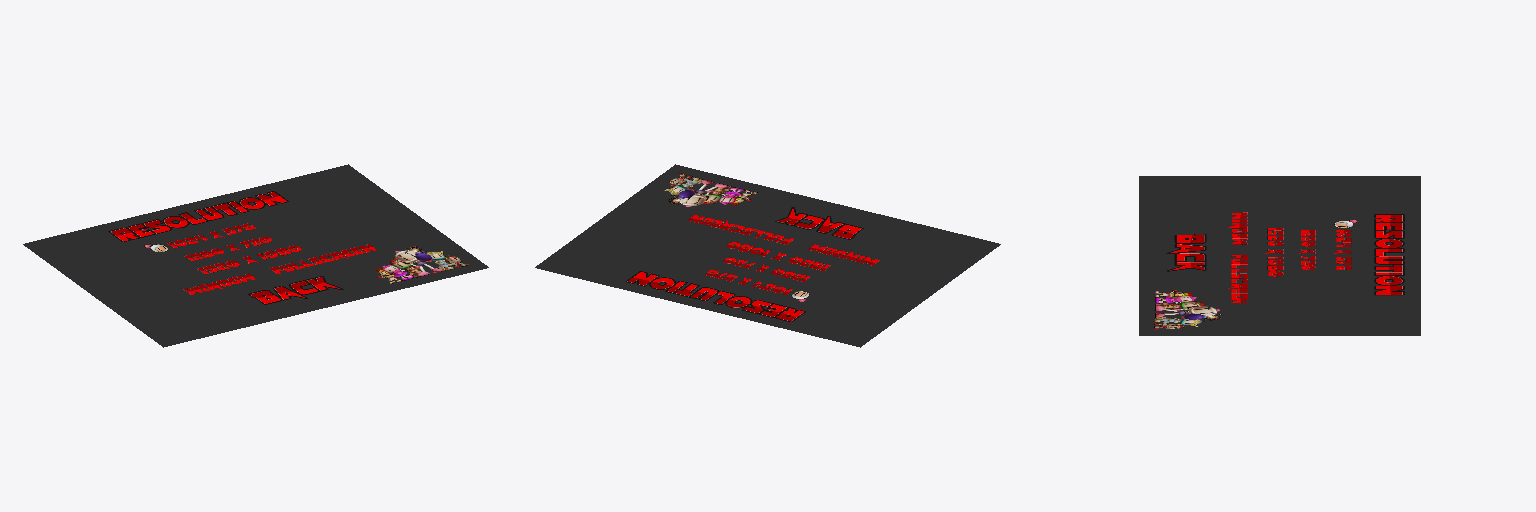
The picture shows the model from 3 angles: view 1: azimuth 30°, elevation 25°; view 2: azimuth 150°, elevation 25°; view 3: azimuth 270°, elevation 25°; orthographic projection.
Visible parts, largest first — view 1: Plane; view 2: Plane; view 3: Plane.
Part boxes in pixels (x1,y1,x2,y2): Plane: (23, 164, 488, 347); Plane: (535, 164, 1000, 347); Plane: (1139, 176, 1420, 335).
Bounding box in the file's own units: 16 × 0 × 12.
Materials: 1 (1 with a texture image).